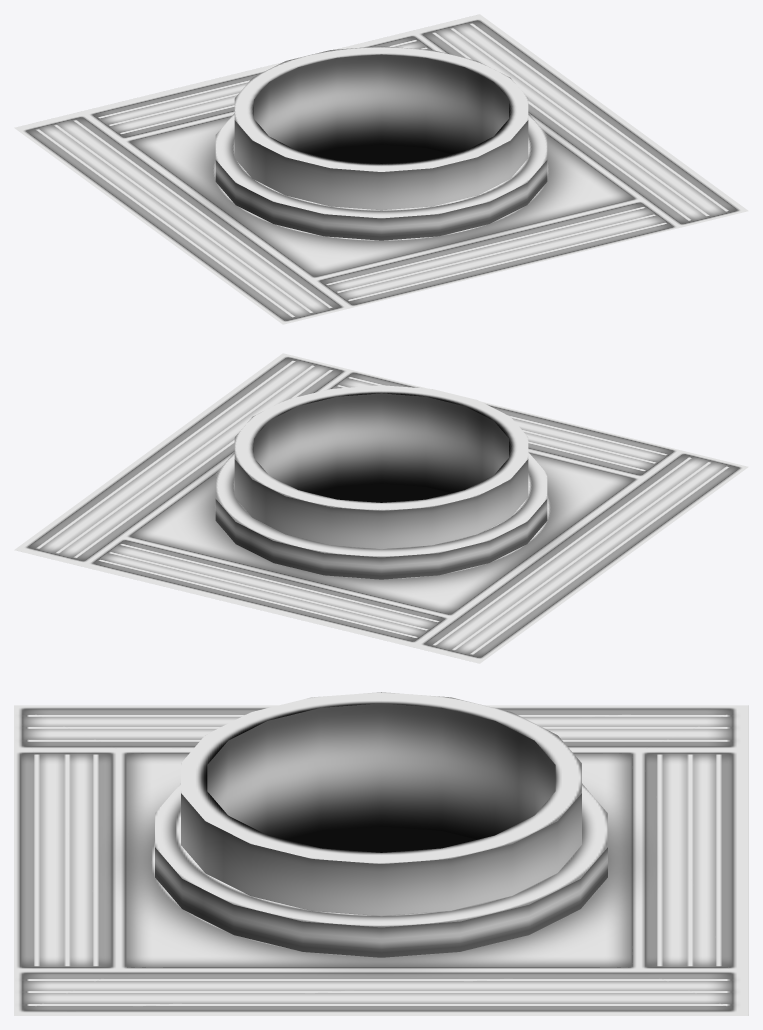
File: Sect_Floor_21.FBX
3 renders of one model, top to bottom at view 1: azimuth 30°, elevation 25°; view 2: azimuth 150°, elevation 25°; view 3: azimuth 270°, elevation 25°, orthographic. The views are drawn at different scales.
Visible parts, largest first — view 1: Sect_Floor_BaseE_002; view 2: Sect_Floor_BaseE_002; view 3: Sect_Floor_BaseE_002.
Part boxes in pixels (box(x1,y1,x2,y2)): Sect_Floor_BaseE_002: box(14, 14, 748, 324); Sect_Floor_BaseE_002: box(14, 353, 748, 663); Sect_Floor_BaseE_002: box(14, 692, 748, 1015).
Size of the model in its own units: 4 by 0.739 by 4.
